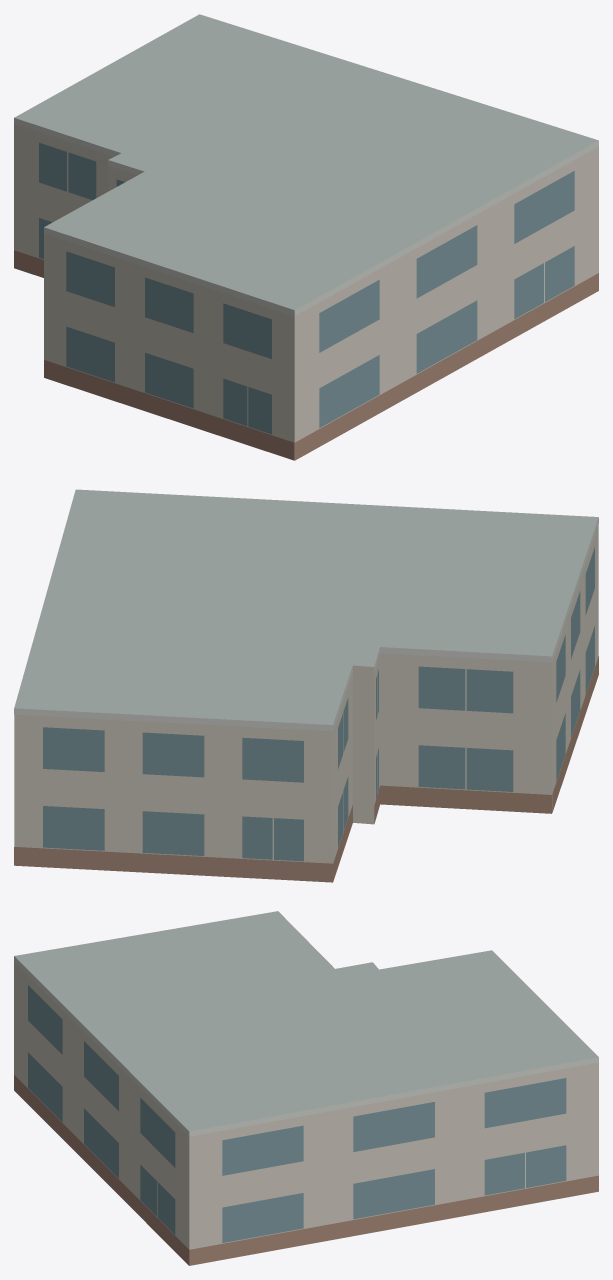
Rendered from survey-upis-32865595.glb.
The picture shows the model from 3 angles, top to bottom: view 1: azimuth 30°, elevation 25°; view 2: azimuth 150°, elevation 25°; view 3: azimuth 270°, elevation 25°; orthographic projection. The views are drawn at different scales.
Visible parts, largest first — view 1: survey-upis-32865595.tmp; view 2: survey-upis-32865595.tmp; view 3: survey-upis-32865595.tmp.
Boxes of the visible parts, x1,y1,x2,y2 form: survey-upis-32865595.tmp: [14, 14, 598, 460]; survey-upis-32865595.tmp: [14, 489, 598, 882]; survey-upis-32865595.tmp: [14, 911, 598, 1265].
Bounding box in the file's own units: 21.44 × 6.1 × 24.05.
